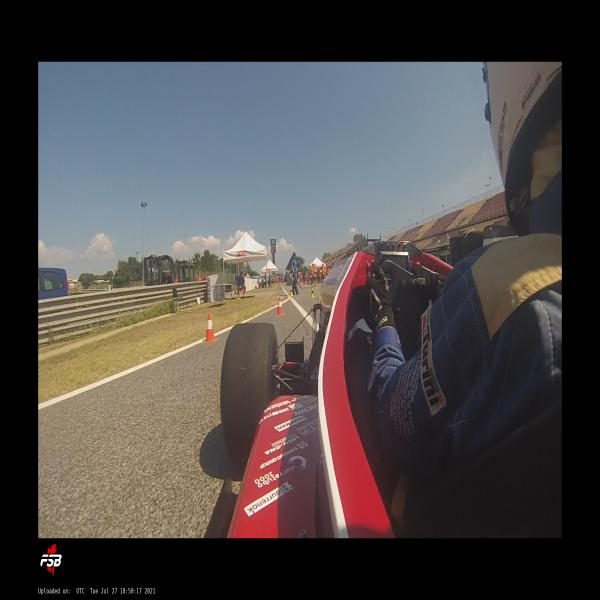orange_cone: (203, 313, 218, 342), (275, 296, 285, 315)
yellow_cone: (311, 288, 315, 298), (290, 287, 293, 296)
